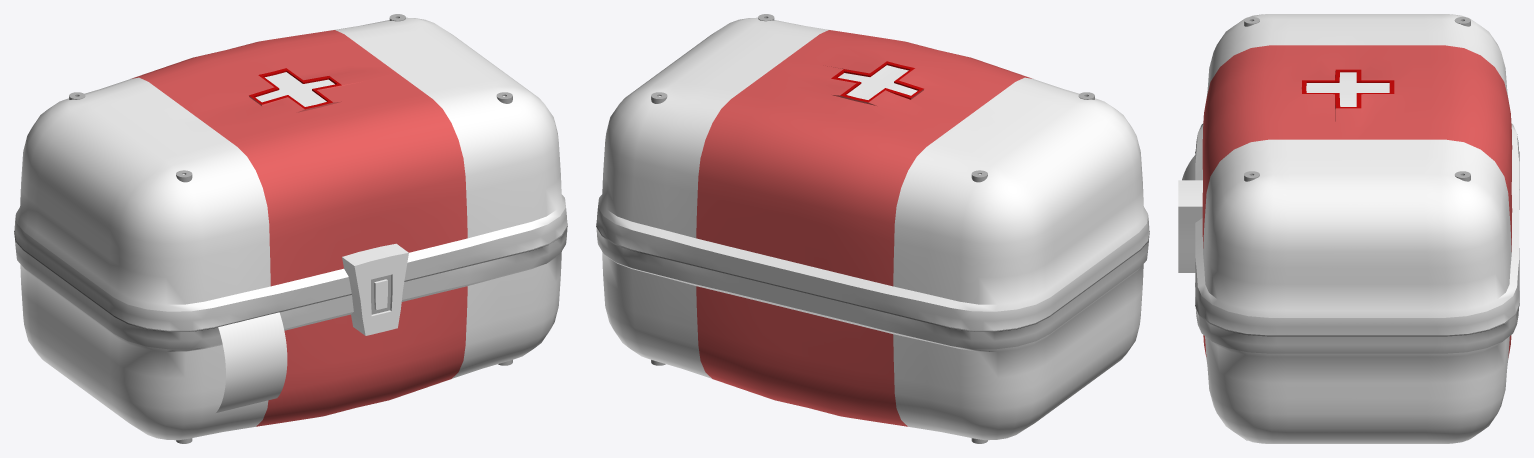
File: Med_Kit.fbx
3 views of the same model, side by side, from view 1: azimuth 30°, elevation 25°; view 2: azimuth 150°, elevation 25°; view 3: azimuth 270°, elevation 25° (orthographic).
Parts seen in each view (by area): view 1: med_kit; view 2: med_kit; view 3: med_kit.
Boxes of the visible parts, box(x1,y1,x2,y2) form: med_kit: box(14, 14, 567, 443); med_kit: box(596, 14, 1149, 443); med_kit: box(1178, 14, 1519, 443).
Bounding box in the file's own units: 39.01 × 24.1 × 26.29.
